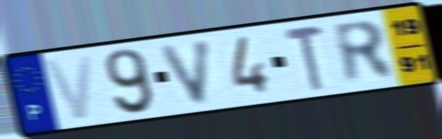4: (231, 34, 272, 98)
9: (102, 47, 155, 116)
R: (329, 18, 400, 87)
T: (281, 23, 328, 93)
V: (157, 36, 216, 108), (40, 51, 95, 123)
